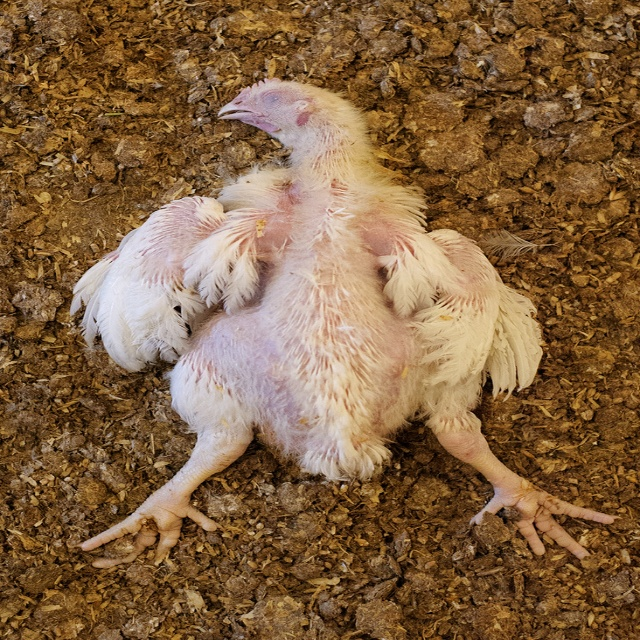Chicken: (68, 88, 547, 602)
